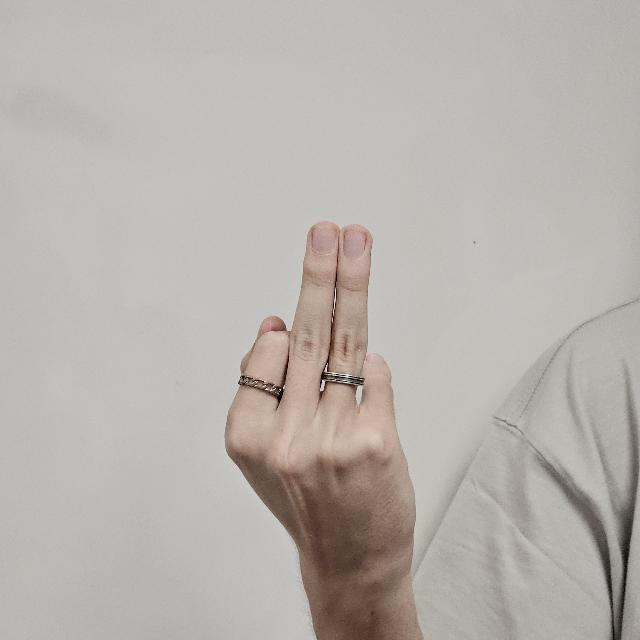R: (224, 198, 426, 592)
